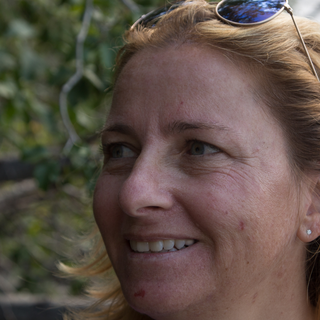eye: (181, 138, 229, 162), (100, 138, 142, 165)
